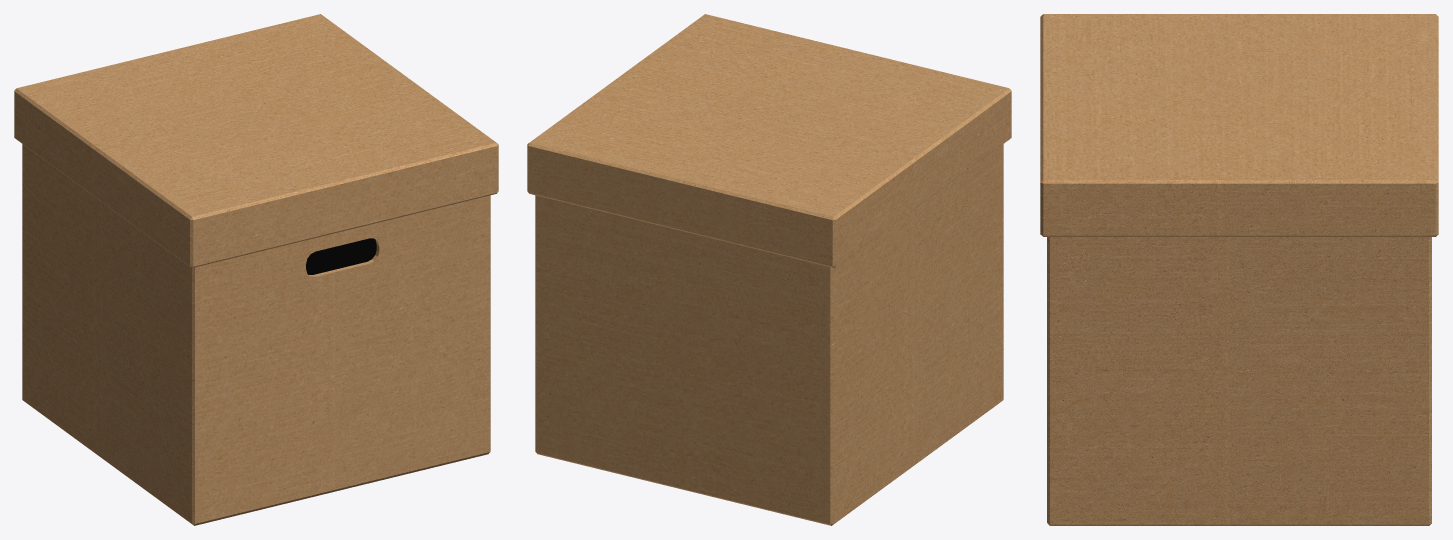
File: storage_box.glb
The picture shows the model from 3 angles, left to right: view 1: azimuth 30°, elevation 25°; view 2: azimuth 150°, elevation 25°; view 3: azimuth 270°, elevation 25°; orthographic projection. The views are drawn at different scales.
Visible parts, largest first — view 1: StorageBoxMesh; view 2: StorageBoxMesh; view 3: StorageBoxMesh.
Part boxes in pixels (box(x1,y1,x2,y2)): StorageBoxMesh: box(14, 14, 498, 525); StorageBoxMesh: box(527, 14, 1011, 525); StorageBoxMesh: box(1040, 14, 1438, 525).
Bounding box in the file's own units: 0.3 × 0.29 × 0.3.
Materials: 2 (1 with a texture image).
